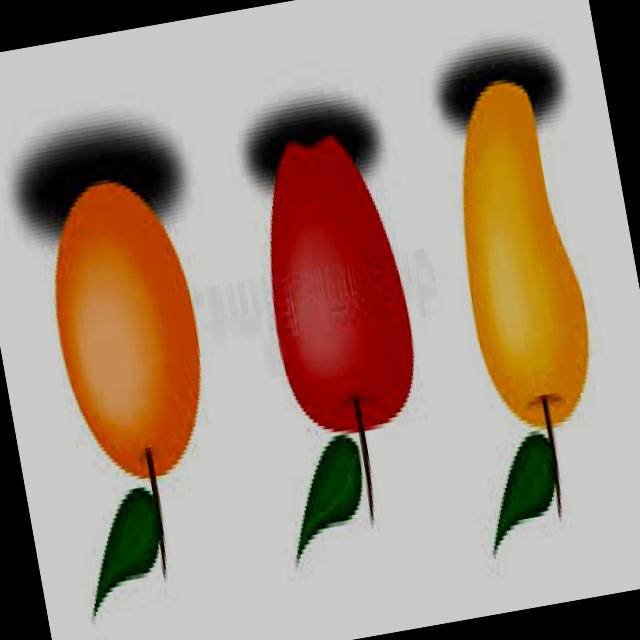Apple: (242, 125, 428, 442)
Mango: (432, 75, 606, 441)
Orange: (32, 168, 222, 495)
